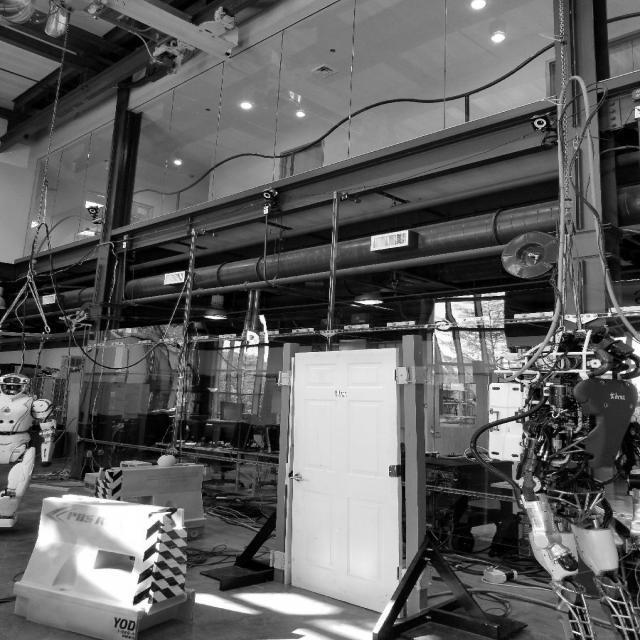door: (286, 346, 404, 616), (292, 473, 305, 481)
